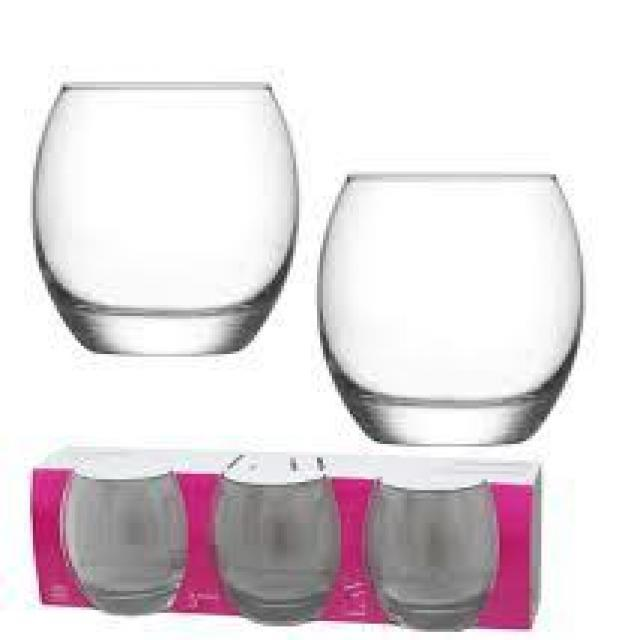Glass: (24, 83, 299, 358), (314, 168, 584, 448), (363, 469, 501, 631), (212, 452, 338, 621), (62, 461, 192, 620)
